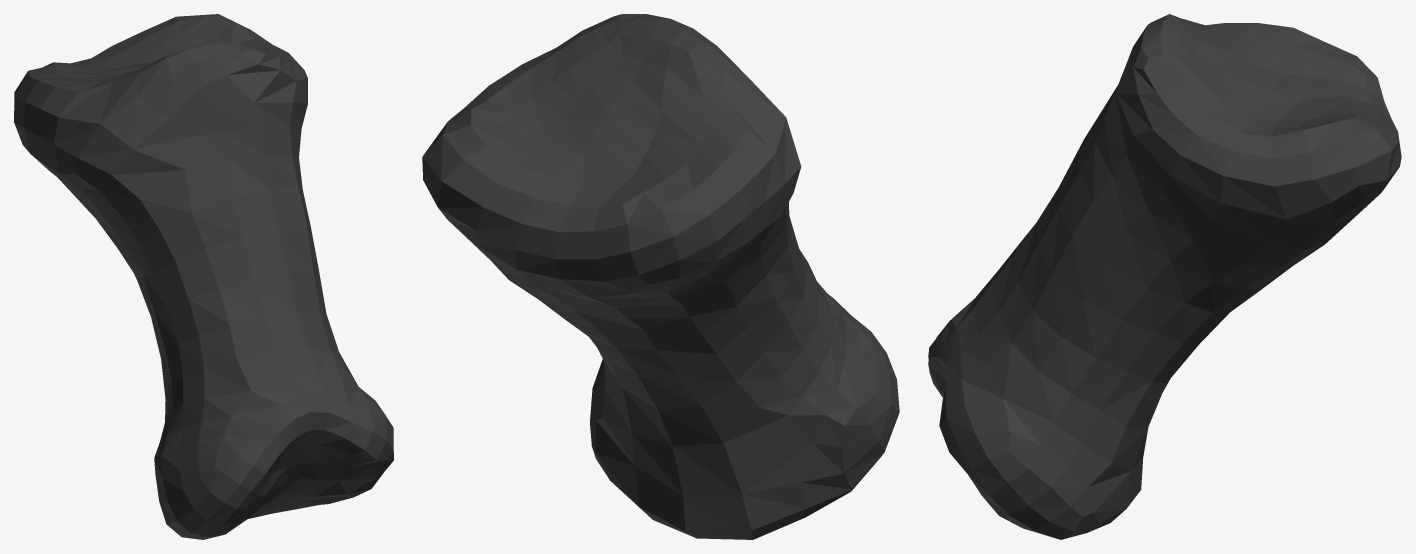
3 renders of one model, left to right at view 1: azimuth 30°, elevation 25°; view 2: azimuth 150°, elevation 25°; view 3: azimuth 270°, elevation 25°, orthographic. The views are drawn at different scales.
Visible parts, largest first — view 1: FL_P1_R; view 2: FL_P1_R; view 3: FL_P1_R.
Boxes of the visible parts, x1,y1,x2,y2 form: FL_P1_R: (14, 14, 393, 539); FL_P1_R: (422, 14, 899, 539); FL_P1_R: (928, 14, 1401, 539).
Size of the model in its own units: 0.0825 by 0.1378 by 0.1226.
Materials: 1 (1 with a texture image).
